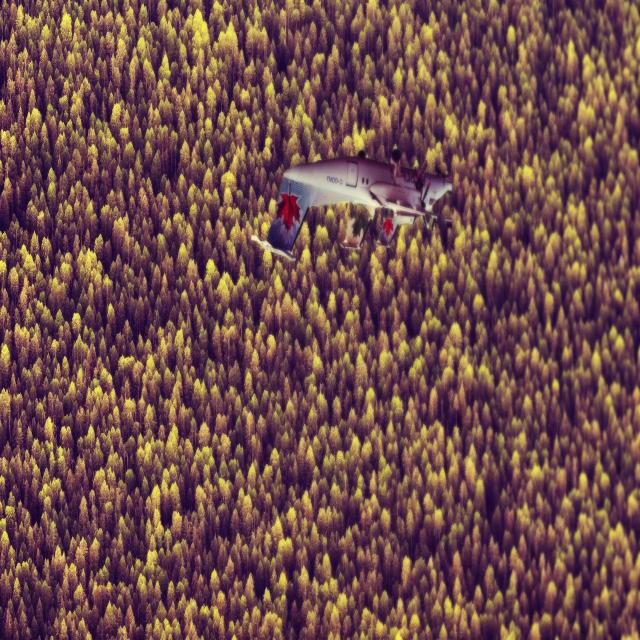airplane: (251, 146, 454, 262)
